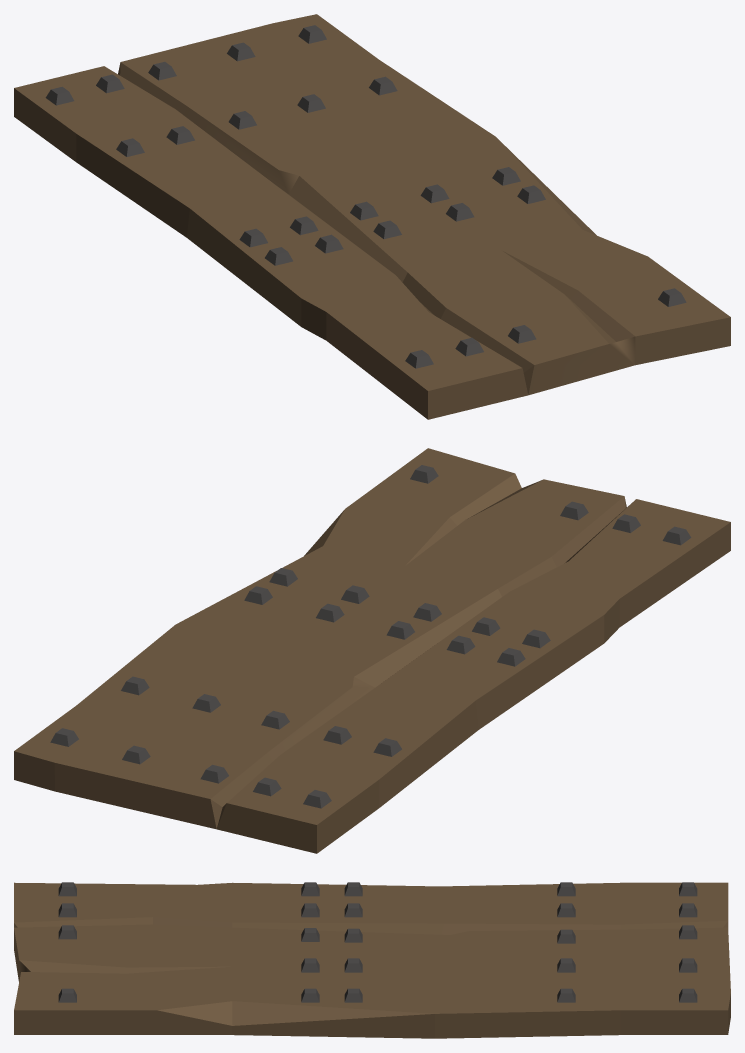
Rendered from SM_Prop_WoodPlank_01.glb.
The picture shows the model from 3 angles, top to bottom: view 1: azimuth 30°, elevation 25°; view 2: azimuth 150°, elevation 25°; view 3: azimuth 270°, elevation 25°; orthographic projection. The views are drawn at different scales.
Visible parts, largest first — view 1: SM_Prop_WoodPlank_01; view 2: SM_Prop_WoodPlank_01; view 3: SM_Prop_WoodPlank_01.
Part boxes in pixels (<box>): SM_Prop_WoodPlank_01: <box>14,14,730,419</box>; SM_Prop_WoodPlank_01: <box>14,448,730,853</box>; SM_Prop_WoodPlank_01: <box>14,882,730,1038</box>.
Size of the model in its own units: 0.0207 by 0.00239 by 0.0477.
